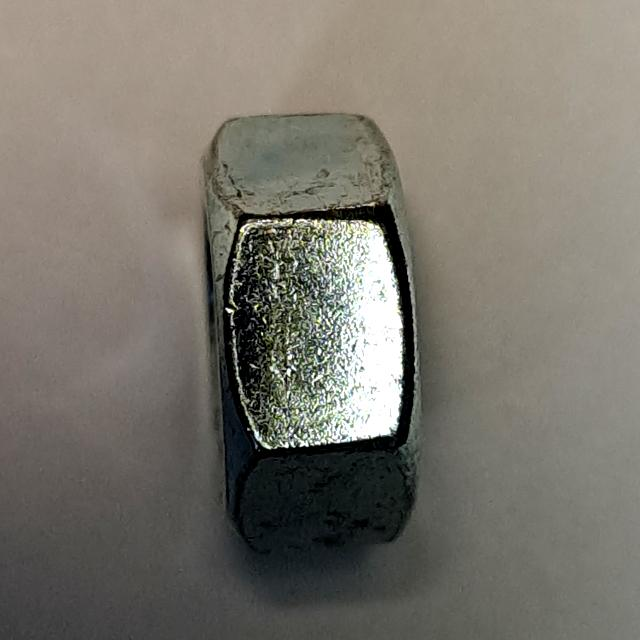Side_Excellent: (179, 102, 447, 579)
